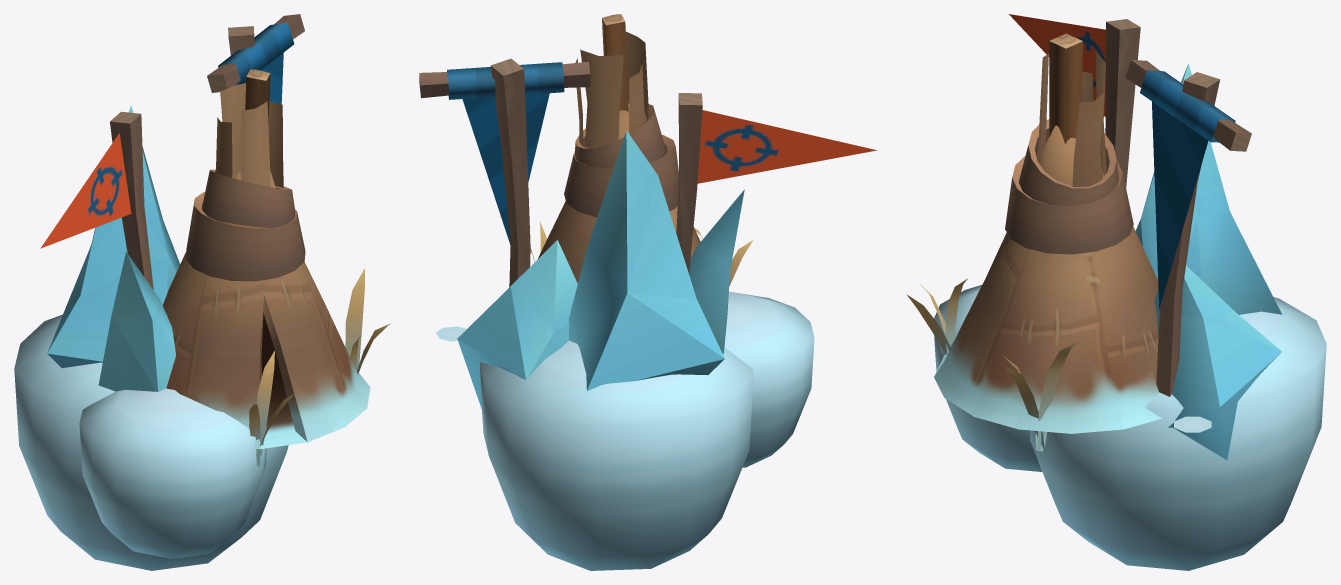
The model's file is WallCorner-005_40_04_5243.fbx.
3 renders of one model, left to right at view 1: azimuth 30°, elevation 25°; view 2: azimuth 150°, elevation 25°; view 3: azimuth 270°, elevation 25°, orthographic. The views are drawn at different scales.
Visible parts, largest first — view 1: Corner, Hut (1), Wood1.002 (1) (×2), Flag1.001 (1), ClothTop1 (1), Hut (3), Hut (2), WoodTop (1), Flag5.001 (1); view 2: Corner, Hut (1), Wood1.002 (1) (×2), Flag1.001 (1), Flag5.001 (1), ClothTop1 (1), WoodTop (1); view 3: Corner, Hut (1), Wood1.002 (1) (×2), Flag5.001 (1), ClothTop1 (1), Flag1.001 (1), Hut (3), WoodTop (1), Hut (2).
Boxes of the visible parts, left/top/right/bottom form: Corner: left=14, top=105, right=288, bottom=570; Hut (1): left=162, top=69, right=370, bottom=449; Wood1.002 (1) (×2): left=110, top=26, right=254, bottom=289; Flag1.001 (1): left=40, top=133, right=131, bottom=248; ClothTop1 (1): left=218, top=22, right=294, bottom=85; Hut (3): left=345, top=268, right=390, bottom=374; Hut (2): left=249, top=350, right=294, bottom=466; WoodTop (1): left=207, top=14, right=304, bottom=92; Flag5.001 (1): left=245, top=53, right=283, bottom=104; Corner: left=436, top=130, right=814, bottom=570; Hut (1): left=538, top=14, right=700, bottom=283; Wood1.002 (1) (×2): left=490, top=58, right=702, bottom=286; Flag1.001 (1): left=697, top=110, right=876, bottom=183; Flag5.001 (1): left=462, top=93, right=549, bottom=244; ClothTop1 (1): left=447, top=62, right=564, bottom=99; WoodTop (1): left=419, top=61, right=590, bottom=98; Corner: left=934, top=63, right=1326, bottom=570; Hut (1): left=934, top=33, right=1161, bottom=433; Wood1.002 (1) (×2): left=1105, top=19, right=1220, bottom=396; Flag5.001 (1): left=1152, top=101, right=1208, bottom=308; ClothTop1 (1): left=1140, top=70, right=1235, bottom=142; Flag1.001 (1): left=1009, top=14, right=1105, bottom=116; Hut (3): left=1002, top=342, right=1077, bottom=451; WoodTop (1): left=1125, top=60, right=1251, bottom=151; Hut (2): left=906, top=278, right=967, bottom=354.
Size of the model in its own units: 4.63 by 5.9 by 4.27.
